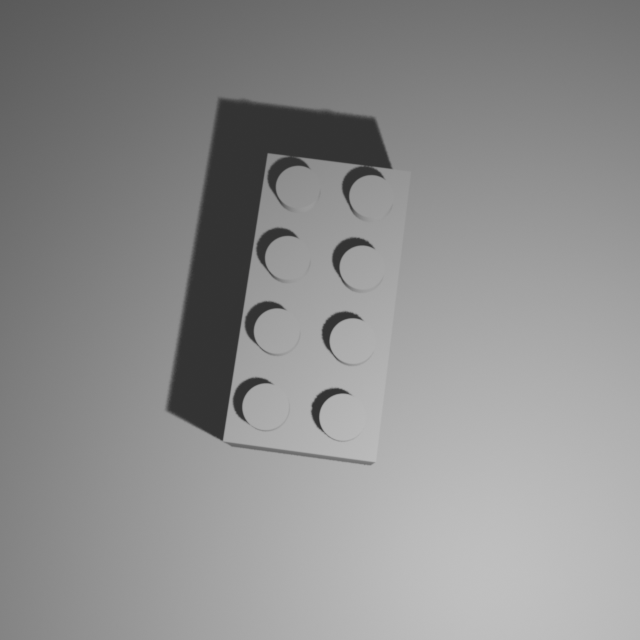lego_2x4: (221, 148, 413, 466)
